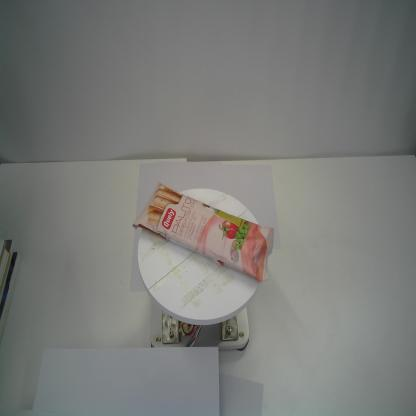Dessert: (131, 179, 276, 286)
